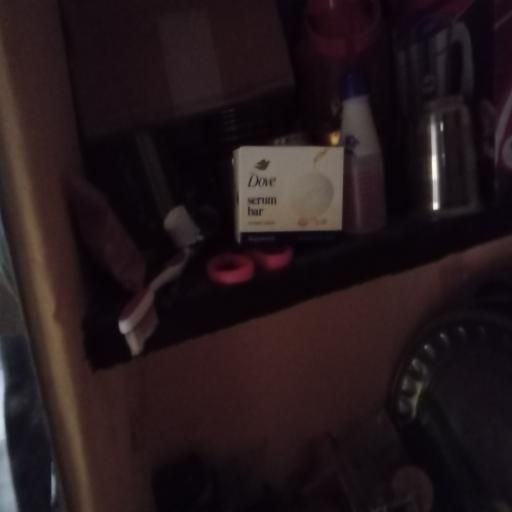Dove`1: (229, 141, 348, 242)
